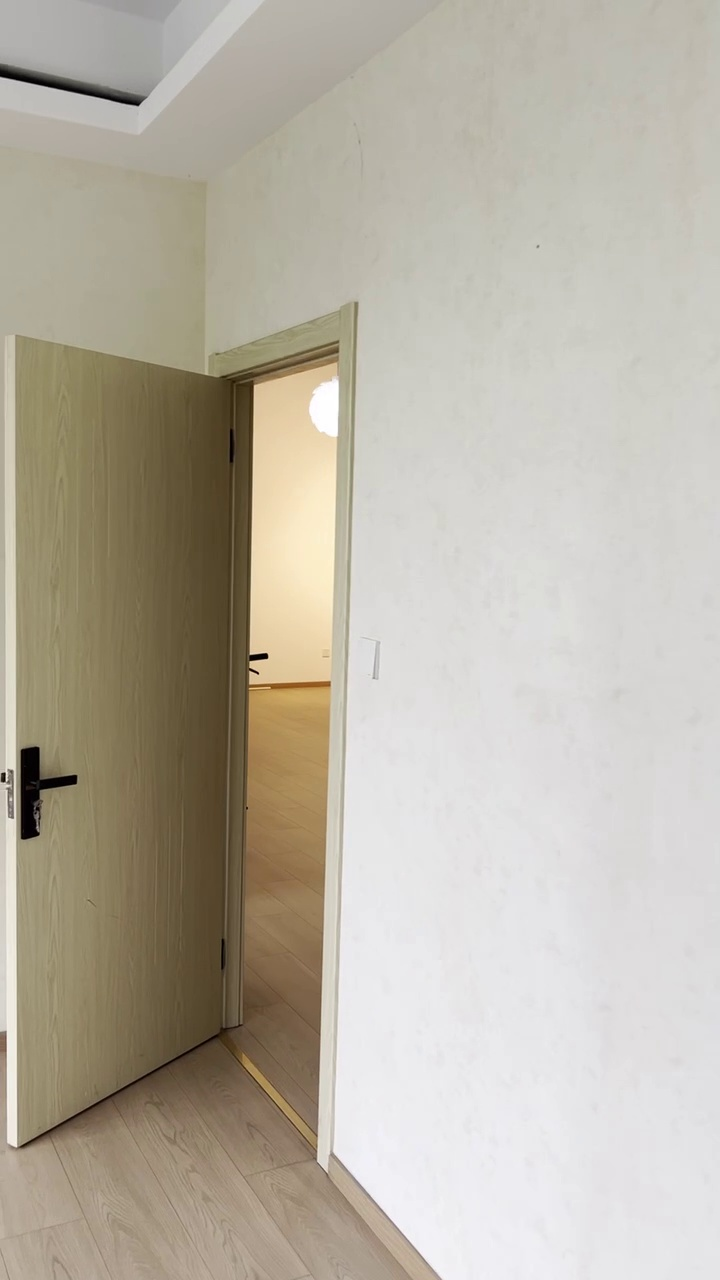button: (357, 635, 381, 681)
